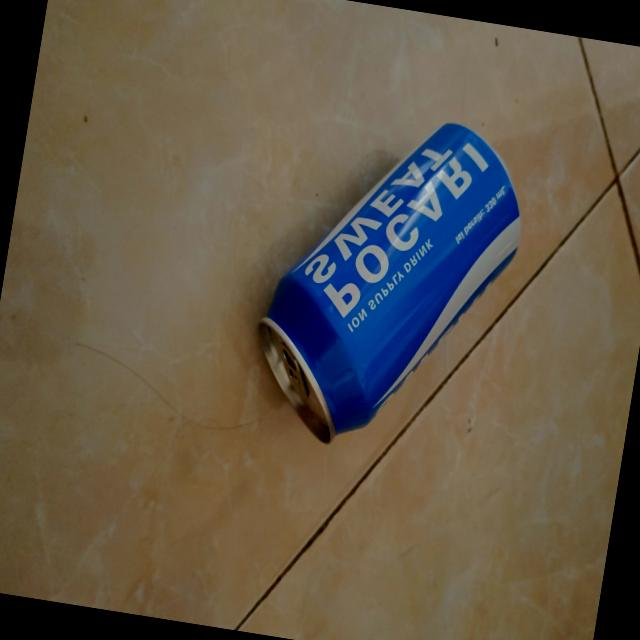pocari-sweat: (240, 90, 539, 470)
